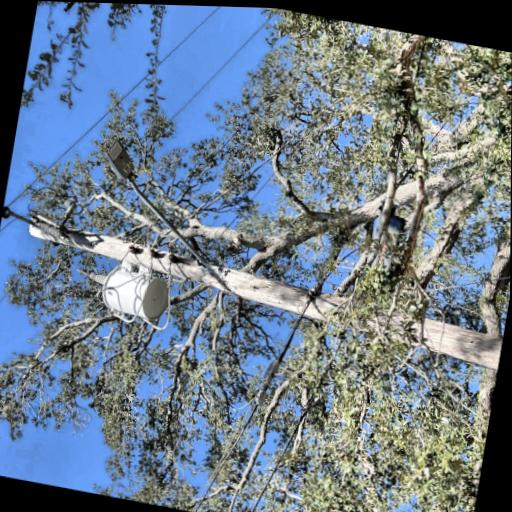pole: (0, 111, 159, 496)
street light: (91, 194, 222, 369)
transformer: (52, 209, 108, 289)
vegetation_encroachment: (0, 89, 194, 502)
